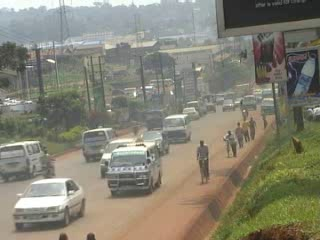Car: (12, 174, 86, 232), (98, 136, 140, 179), (137, 129, 170, 160), (181, 105, 202, 122), (221, 97, 235, 114), (203, 100, 217, 114), (235, 96, 242, 107)
Motorcycle: (37, 149, 58, 178), (239, 104, 250, 121), (132, 118, 140, 136)
